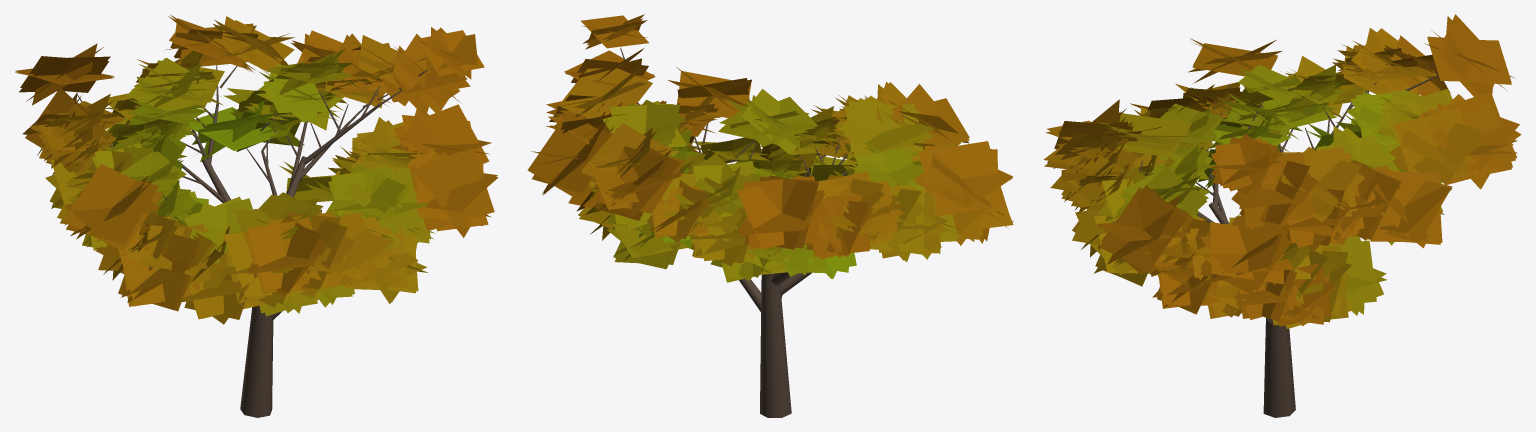
Rendered from wind-test-tree.glb.
3 views of the same model, side by side, from view 1: azimuth 30°, elevation 25°; view 2: azimuth 150°, elevation 25°; view 3: azimuth 270°, elevation 25° (orthographic). The views are drawn at different scales.
Visible parts, largest first — view 1: leaf, wood; view 2: leaf, wood; view 3: leaf, wood.
Boxes of the visible parts, left/top/right/bottom form: leaf: left=15, top=15, right=498, bottom=324; wood: left=76, top=65, right=426, bottom=417; leaf: left=527, top=14, right=1013, bottom=282; wood: left=620, top=47, right=847, bottom=417; leaf: left=1043, top=14, right=1521, bottom=328; wood: left=1139, top=75, right=1438, bottom=417.
Bounding box in the file's own units: 12.24 × 9.69 × 11.9.
